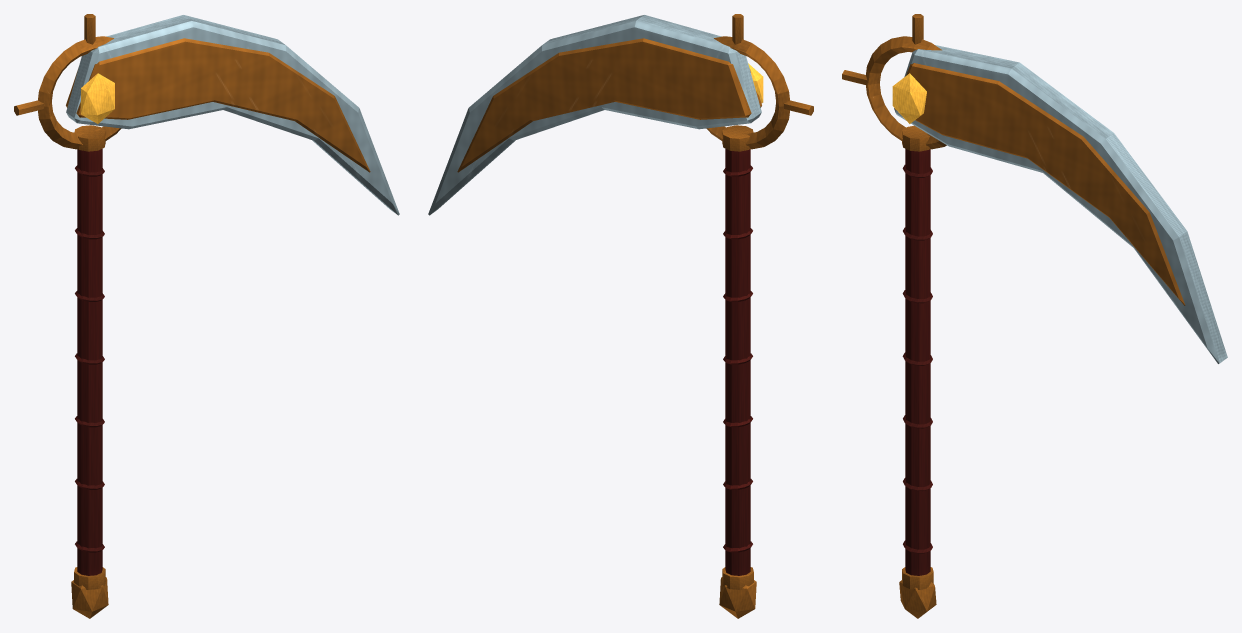
File: scythe-t3.glb
3 renders of one model, left to right at view 1: azimuth 30°, elevation 25°; view 2: azimuth 150°, elevation 25°; view 3: azimuth 330°, elevation 25°, orthographic.
Parts seen in each view (by area): view 1: Reaper inlay, Reaper edge, Leather grip, Reaper halo, Sun core, Faceted pommel, Grip ferrule.001; view 2: Reaper inlay, Reaper edge, Leather grip, Reaper halo, Faceted pommel, Grip ferrule.001; view 3: Reaper inlay, Reaper edge, Leather grip, Reaper halo, Sun core, Faceted pommel, Grip ferrule.001.
Boxes of the visible parts, x1,y1,x2,y2 form: Reaper inlay: (66,38,370,172); Reaper edge: (66,15,399,215); Leather grip: (77,148,102,575); Reaper halo: (38,36,121,149); Sun core: (80,73,114,123); Faceted pommel: (71,577,108,618); Grip ferrule.001: (74,125,105,151); Reaper inlay: (457,38,761,172); Reaper edge: (428,15,761,215); Leather grip: (725,148,750,575); Reaper halo: (706,36,789,149); Faceted pommel: (719,577,756,618); Grip ferrule.001: (722,125,753,151); Reaper inlay: (895,63,1185,305); Reaper edge: (894,45,1227,363); Leather grip: (905,149,930,575); Reaper halo: (866,36,946,149); Sun core: (892,73,926,123); Faceted pommel: (899,580,936,618); Grip ferrule.001: (902,125,930,151).
Bounding box in the file's own units: 1.05 × 1.6 × 0.1023.
Materials: 1 (1 with a texture image).
